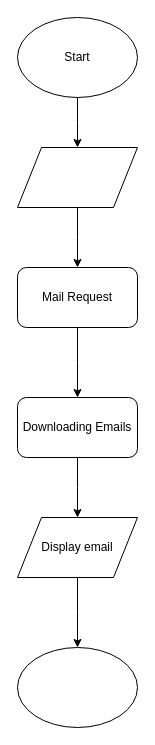
The diagram is 155 pixels wide and 745 high, and some of its shapes have lost their labels. Here are the shapes that lost their labels. From the top down, the centre of each, then its label:
At point 77,177: "Sync".
At point 77,687: "End".
